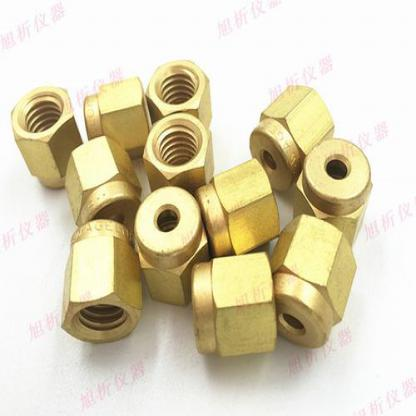FOD: (269, 217, 359, 357), (59, 218, 142, 344), (134, 184, 212, 308), (294, 136, 377, 251), (192, 246, 275, 361), (249, 82, 336, 188), (192, 157, 283, 256), (11, 84, 82, 200), (62, 134, 143, 233), (141, 115, 216, 198), (84, 71, 152, 156), (146, 58, 216, 130)
